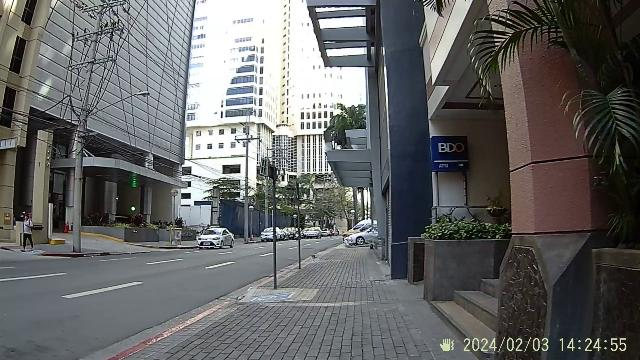lamp_post: (88, 88, 150, 219)
utility_post: (74, 0, 130, 264), (233, 133, 260, 223)
